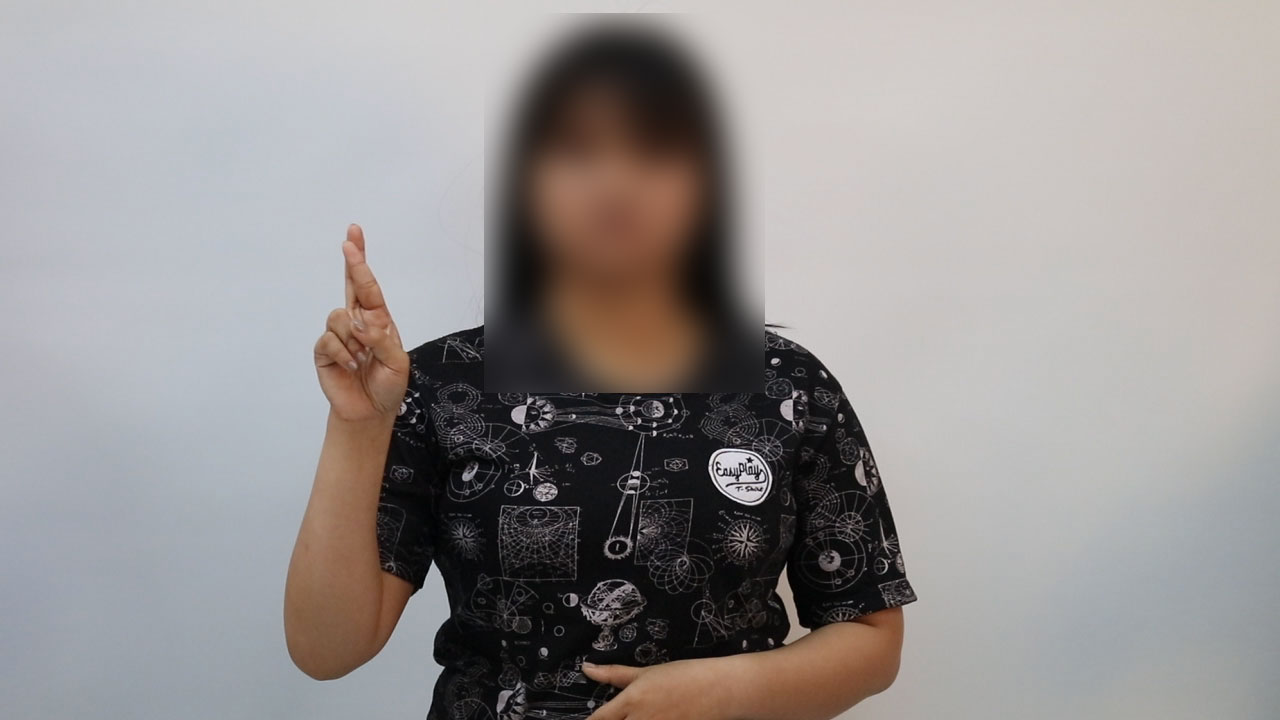rao: (295, 219, 418, 430)
